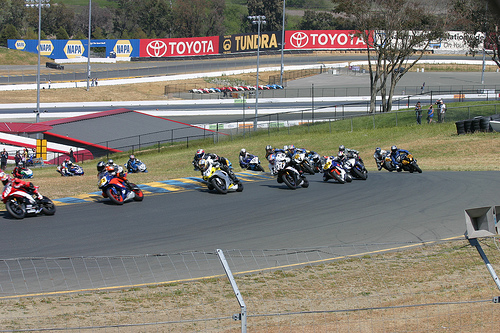helmet: (94, 161, 106, 172), (196, 149, 203, 158), (264, 146, 274, 151)
